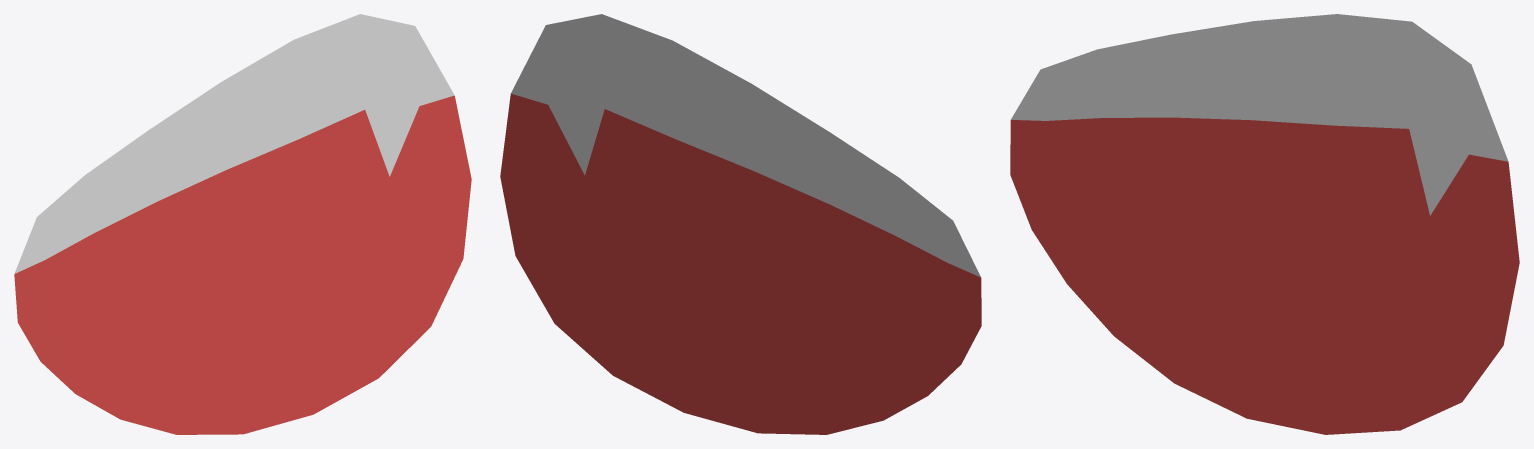
File: mouth_8.fbx
3 renders of one model, left to right at view 1: azimuth 30°, elevation 25°; view 2: azimuth 150°, elevation 25°; view 3: azimuth 330°, elevation 25°, orthographic. The views are drawn at different scales.
Visible parts, largest first — view 1: mouth_8; view 2: mouth_8; view 3: mouth_8.
Boxes of the visible parts, x1=… form: mouth_8: x1=14, y1=14, x2=471, y2=434; mouth_8: x1=500, y1=14, x2=981, y2=434; mouth_8: x1=1010, y1=14, x2=1519, y2=434.
Size of the model in its own units: 0.292 by 0.2301 by 0.0173.
